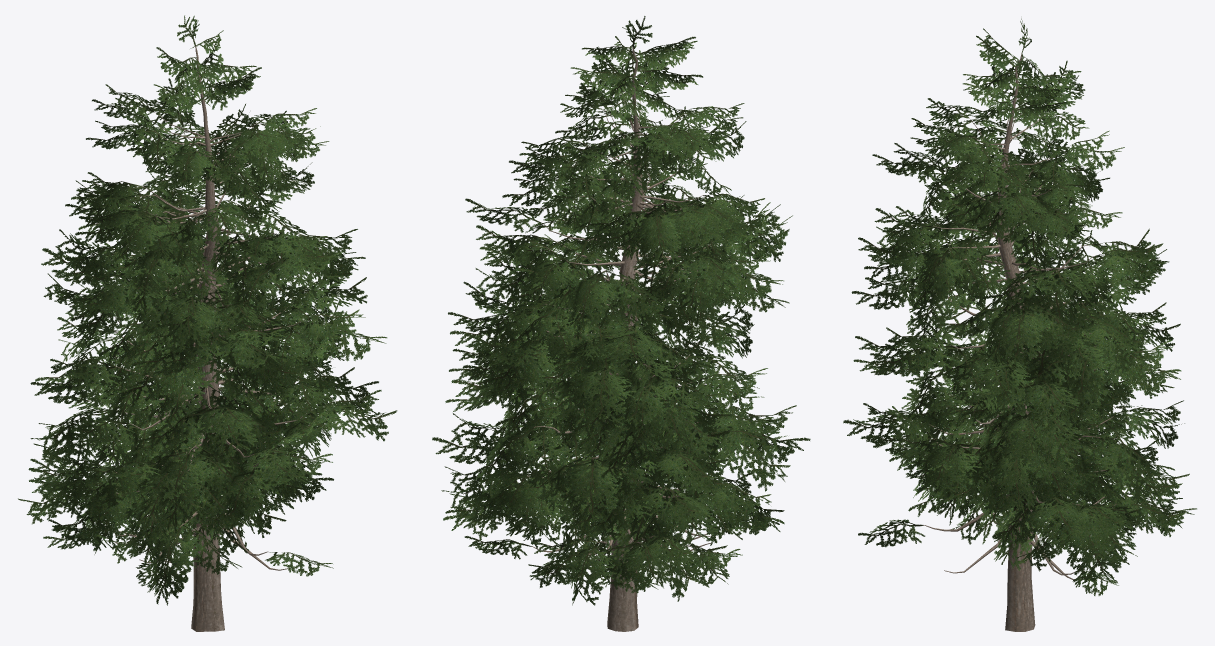
File: tree_fir_a.glb
3 views of the same model, side by side, from view 1: azimuth 30°, elevation 25°; view 2: azimuth 150°, elevation 25°; view 3: azimuth 270°, elevation 25° (orthographic). The views are drawn at different scales.
Parts seen in each view (by area): view 1: tree_fir_a; view 2: tree_fir_a; view 3: tree_fir_a.
Part boxes in pixels (x1,y1,x2,y2): tree_fir_a: [18, 15, 397, 631]; tree_fir_a: [432, 16, 810, 631]; tree_fir_a: [843, 18, 1196, 631].
Size of the model in its own units: 36.16 by 64 by 34.68.
Materials: 2 (2 with a texture image).
